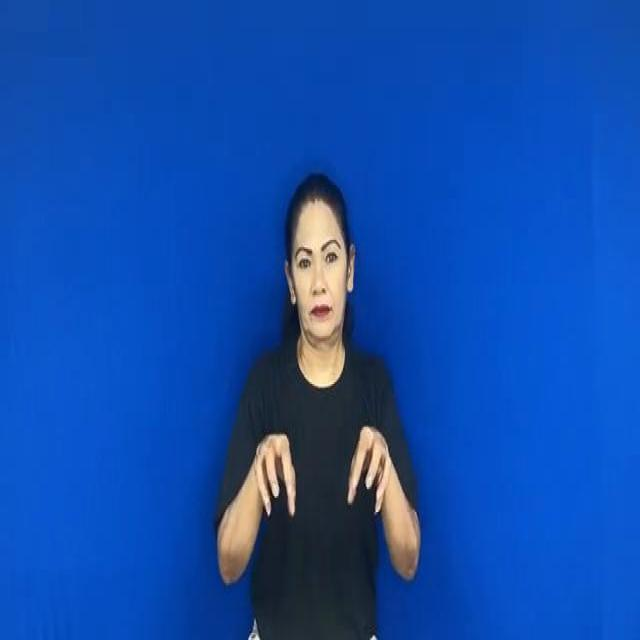egg: (227, 416, 399, 534)
